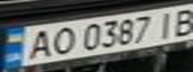0: (78, 20, 103, 52)
3: (100, 18, 121, 48)
7: (130, 12, 157, 44)
8: (115, 16, 139, 46)
A: (21, 27, 57, 61)
B: (169, 4, 193, 36)
I: (151, 8, 181, 38)
O: (45, 25, 78, 56)
